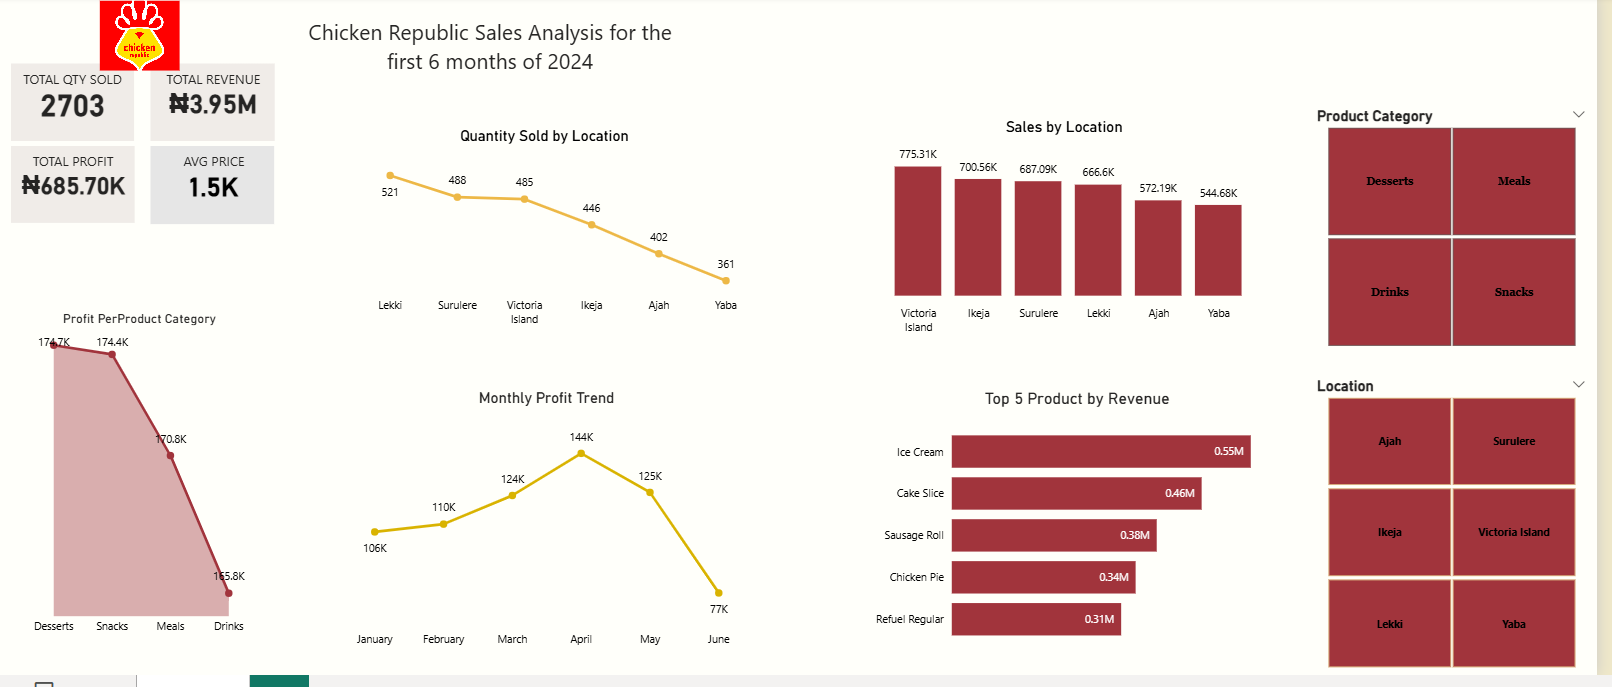

The page's visual inventory and layout, read from the dashboard file:
{"tool":"powerbi","page":{"name":"Page 1","canvas":[1801,765],"ordinal":0},"visuals":[{"type":"card","fields":{"Values":["Sheet1.TOTAL PROFIT"]},"box":[13.7,169.1,139.4,86.8],"z":0},{"type":"card","fields":{"Values":["Sheet1.TOTAL QUANTITY"]},"box":[14.3,76.3,138.4,87.5],"z":1000},{"type":"textbox","box":[32,171.4,102.8,32],"z":2000},{"type":"textbox","box":[17.5,77.9,132,31.8],"z":3000},{"type":"textbox","box":[333.7,18.3,441.1,91.4],"z":4000},{"type":"card","fields":{"Values":["Sheet1.TOTAL REVENUE 1"]},"box":[170.2,76.3,140,87.5],"z":5000},{"type":"textbox","box":[171.8,77.9,138.4,31.8],"z":6000},{"type":"shape","box":[0,320,320,441.1],"z":7000},{"type":"shape","box":[333.3,423,582.3,338.8],"z":8000},{"type":"shape","box":[333.3,120.9,582.3,278.3],"z":9000},{"type":"shape","box":[943.8,121.4,511.3,277],"z":10000},{"type":"shape","box":[943.8,424,511.3,338.8],"z":11000},{"type":"card","fields":{"Values":["Sheet1.avg price"]},"box":[170.3,168.5,139.2,87.9],"z":12000},{"type":"textbox","box":[201.4,170.3,82.4,42.1],"z":13000},{"type":"clusteredColumnChart","title":"Sales by Location","fields":{"Category":["Sheet1.Location"],"Y":["Sum(Sheet1.Total Sales (NGN))"]},"box":[967.3,136.4,466.6,251.4],"z":14000},{"type":"lineChart","title":"Quantity Sold by Location","fields":{"Y":["Sum(Sheet1.Quantity Sold)"],"Category":["Sheet1.Location"]},"box":[369.9,146.5,488.9,232.6],"z":15000},{"type":"clusteredBarChart","title":"Top 5 Product by Revenue","fields":{"Y":["Sum(Sheet1.Total Sales (NGN))"],"Category":["Sheet1.Product"]},"box":[975.8,443.2,479.4,302.5],"z":16000},{"type":"lineChart","title":"Monthly Profit Trend ","fields":{"Y":["Sum(Sheet1.Profit (NGN))"],"Category":["Sheet1.Month Name"]},"box":[386.4,443.2,459.6,300.3],"z":17000},{"type":"areaChart","title":" Profit PerProduct Category","fields":{"Category":["Sheet1.Product Category"],"Y":["Sum(Sheet1.Profit (NGN))"]},"box":[27.4,354.2,262.8,372.5],"z":18000},{"type":"image","box":[107.4,0,100.6,89.1],"z":19000},{"type":"slicer","fields":{"Values":["Sheet1.Product Category"]},"box":[1472.2,119.3,328.1,281.2],"z":20000},{"type":"slicer","fields":{"Values":["Sheet1.Location"]},"box":[1472,424,328,339],"z":21000}]}

Visuals, with their boxes in screenshot pixels (x1, y1, x2, y2), scaled from the page's 1801x765 canvas onto the 1612x687 screenshot:
card - Sheet1.TOTAL PROFIT: region(12, 152, 137, 230)
card - Sheet1.TOTAL QUANTITY: region(13, 69, 137, 147)
textbox: region(29, 154, 121, 183)
textbox: region(16, 70, 134, 99)
textbox: region(299, 16, 693, 99)
card - Sheet1.TOTAL REVENUE 1: region(152, 69, 278, 147)
textbox: region(154, 70, 278, 99)
shape: region(0, 287, 286, 683)
shape: region(298, 380, 820, 684)
shape: region(298, 109, 820, 358)
shape: region(845, 109, 1302, 358)
shape: region(845, 381, 1302, 685)
card - Sheet1.avg price: region(152, 151, 277, 230)
textbox: region(180, 153, 254, 191)
"Sales by Location" clusteredColumnChart: region(866, 122, 1283, 348)
"Quantity Sold by Location" lineChart: region(331, 132, 769, 340)
"Top 5 Product by Revenue" clusteredBarChart: region(873, 398, 1302, 670)
"Monthly Profit Trend " lineChart: region(346, 398, 757, 668)
" Profit PerProduct Category" areaChart: region(25, 318, 260, 653)
image: region(96, 0, 186, 80)
slicer - Sheet1.Product Category: region(1318, 107, 1611, 360)
slicer - Sheet1.Location: region(1318, 381, 1611, 685)
